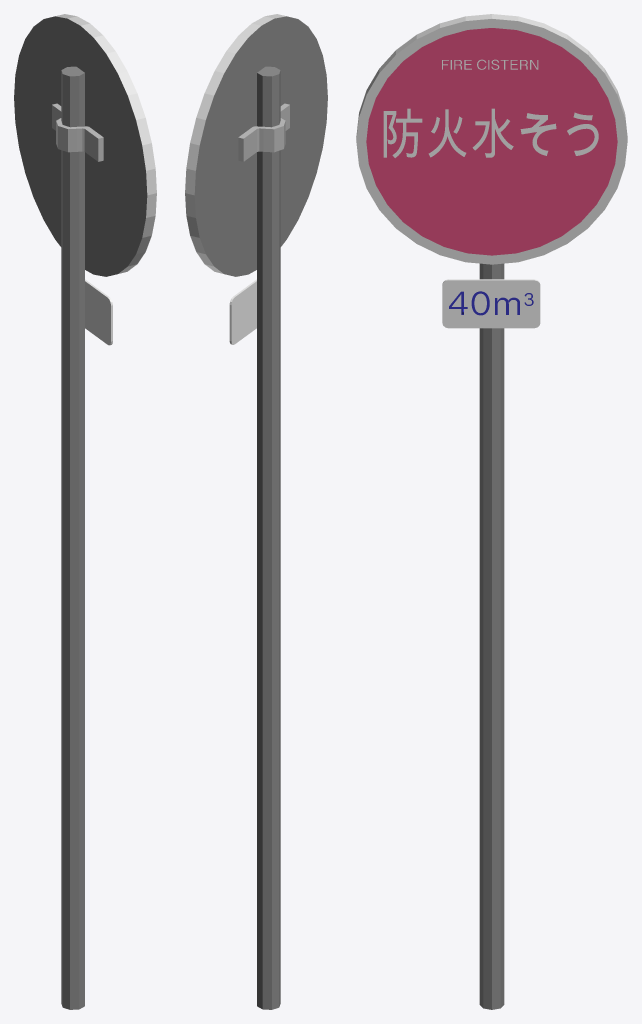
The model's file is FireCisternSign.fbx.
3 renders of one model, left to right at view 1: azimuth 30°, elevation 25°; view 2: azimuth 150°, elevation 25°; view 3: azimuth 270°, elevation 25°, orthographic.
Visible parts, largest first — view 1: FireCisternSign; view 2: FireCisternSign; view 3: FireCisternSign.
Boxes of the visible parts, box(x1,y1,x2,y2) form: FireCisternSign: box(14, 14, 156, 1009); FireCisternSign: box(185, 14, 327, 1009); FireCisternSign: box(356, 14, 627, 1009).
Bounding box in the file's own units: 0.1048 × 2.91 × 0.7183.
